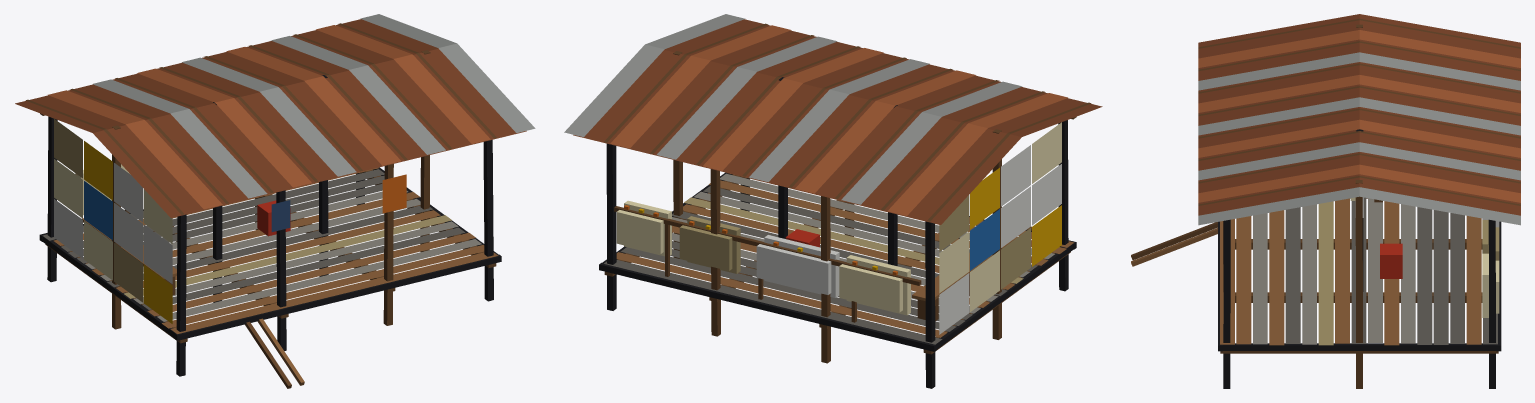
Rendered from building_makoko-net-shed.glb.
3 renders of one model, left to right at view 1: azimuth 30°, elevation 25°; view 2: azimuth 150°, elevation 25°; view 3: azimuth 270°, elevation 25°, orthographic. The views are drawn at different scales.
Visible parts, largest first — view 1: body; view 2: body; view 3: body.
Part boxes in pixels (x1,y1,x2,y2): body: (15, 14, 535, 388); body: (564, 14, 1102, 388); body: (1131, 14, 1520, 388).
Size of the model in its own units: 6.86 by 3.61 by 6.16.
